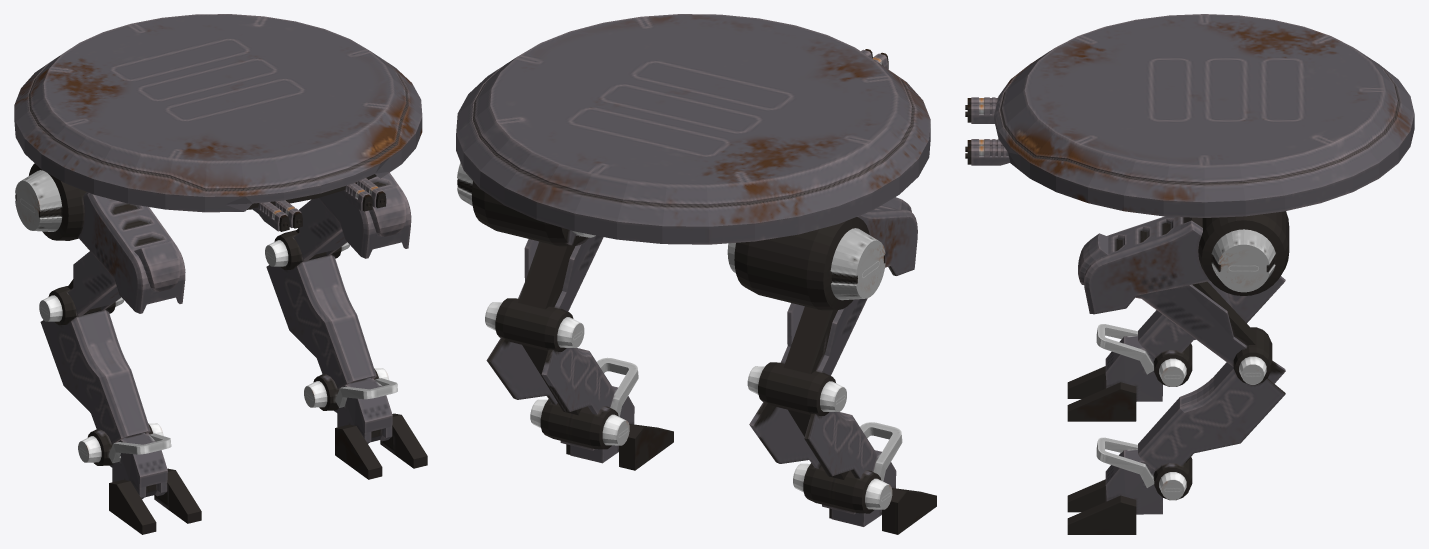
The model's file is enemy_trilobite.glb.
The picture shows the model from 3 angles, left to right: view 1: azimuth 30°, elevation 25°; view 2: azimuth 150°, elevation 25°; view 3: azimuth 270°, elevation 25°; orthographic projection. The views are drawn at different scales.
Parts seen in each view (by area): view 1: mesh_1, mesh_0; view 2: mesh_1, mesh_0; view 3: mesh_1, mesh_0.
Boxes of the visible parts, bbox=[...] form: mesh_1: bbox=[14, 14, 422, 231]; mesh_0: bbox=[15, 163, 427, 534]; mesh_1: bbox=[456, 14, 930, 244]; mesh_0: bbox=[457, 162, 936, 534]; mesh_1: bbox=[965, 14, 1414, 217]; mesh_0: bbox=[1067, 211, 1289, 534].
Size of the model in its own units: 1.03 by 1.01 by 1.1.
1 material, 1 textured.
